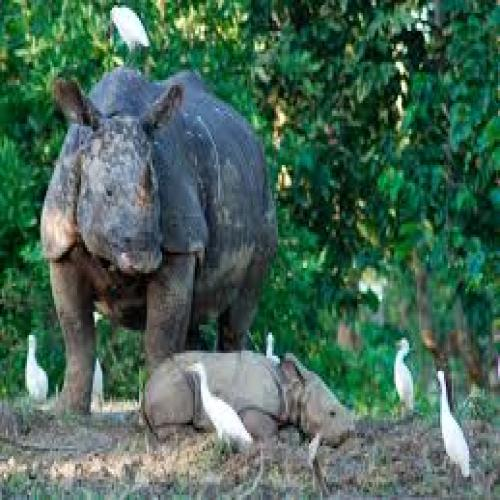rhino-endangered: (40, 74, 273, 415), (141, 346, 352, 443)
